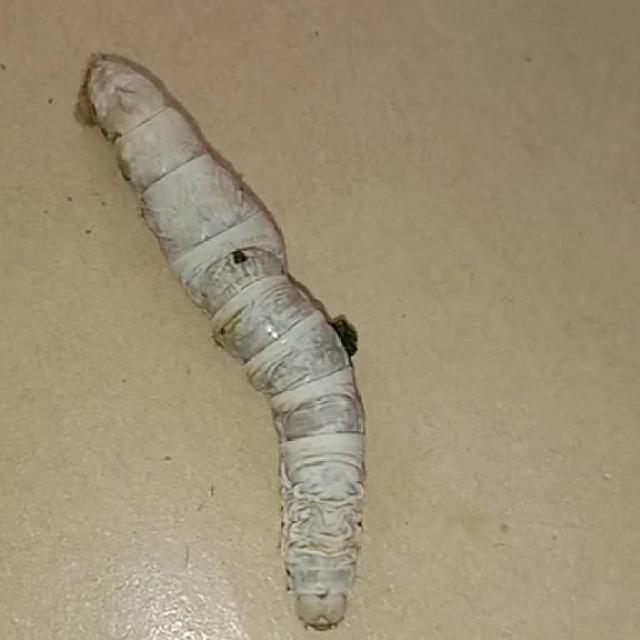Grasserie: (51, 31, 422, 639)
